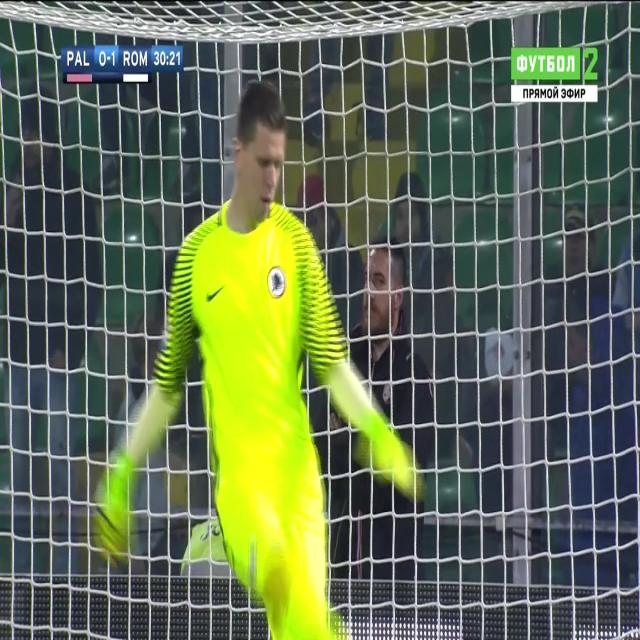Goalkeeper: (88, 79, 426, 640)
